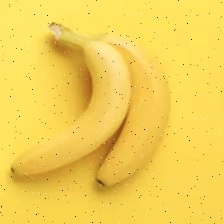banana: (23, 58, 224, 205)
